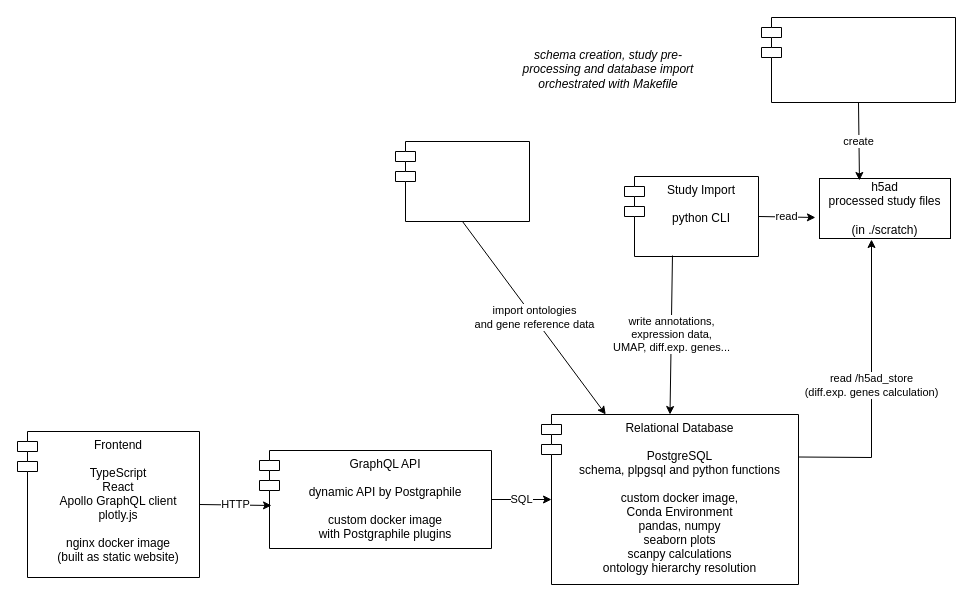
This 973x602 diagram has some shape labels left out. The shapes that lost their labels are listed below. From the top down, each one's centre as x and y in pixels, then its label:
At point (858, 59): "Study Data Pre-Processing Jupyter Notebooks, shared python code".
At point (462, 181): "Master Data Import python CLI".
